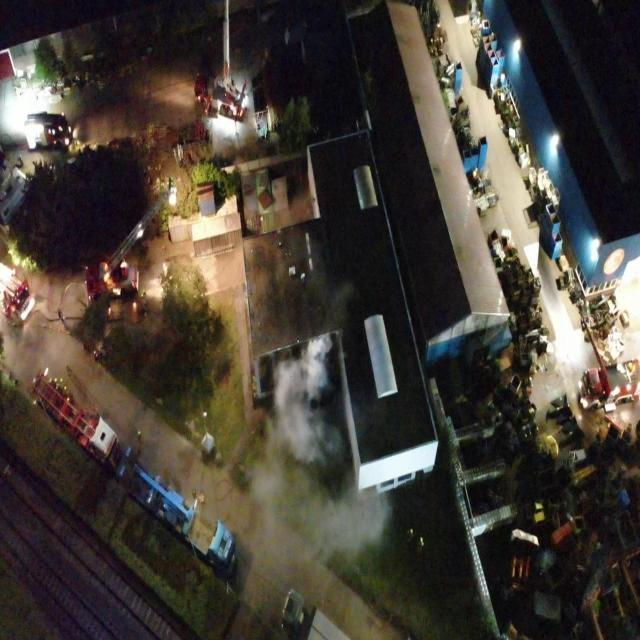Smoke: (240, 330, 395, 600), (284, 191, 356, 323)
